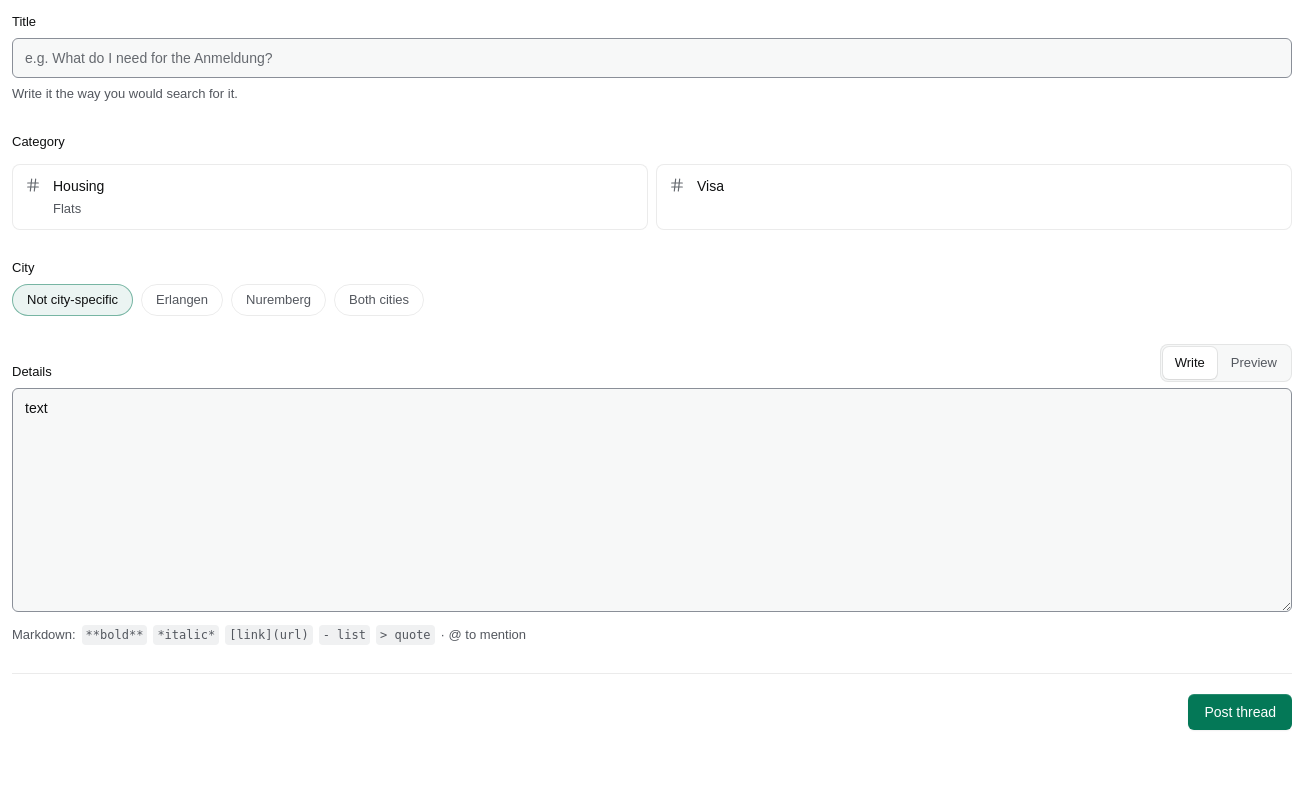
Test case: ThreadForm errors › returns to the write view when a body error comes back from preview
Click the button "Preview" at (1254, 363), box top-left (1219, 347), bottom-right (1289, 379)
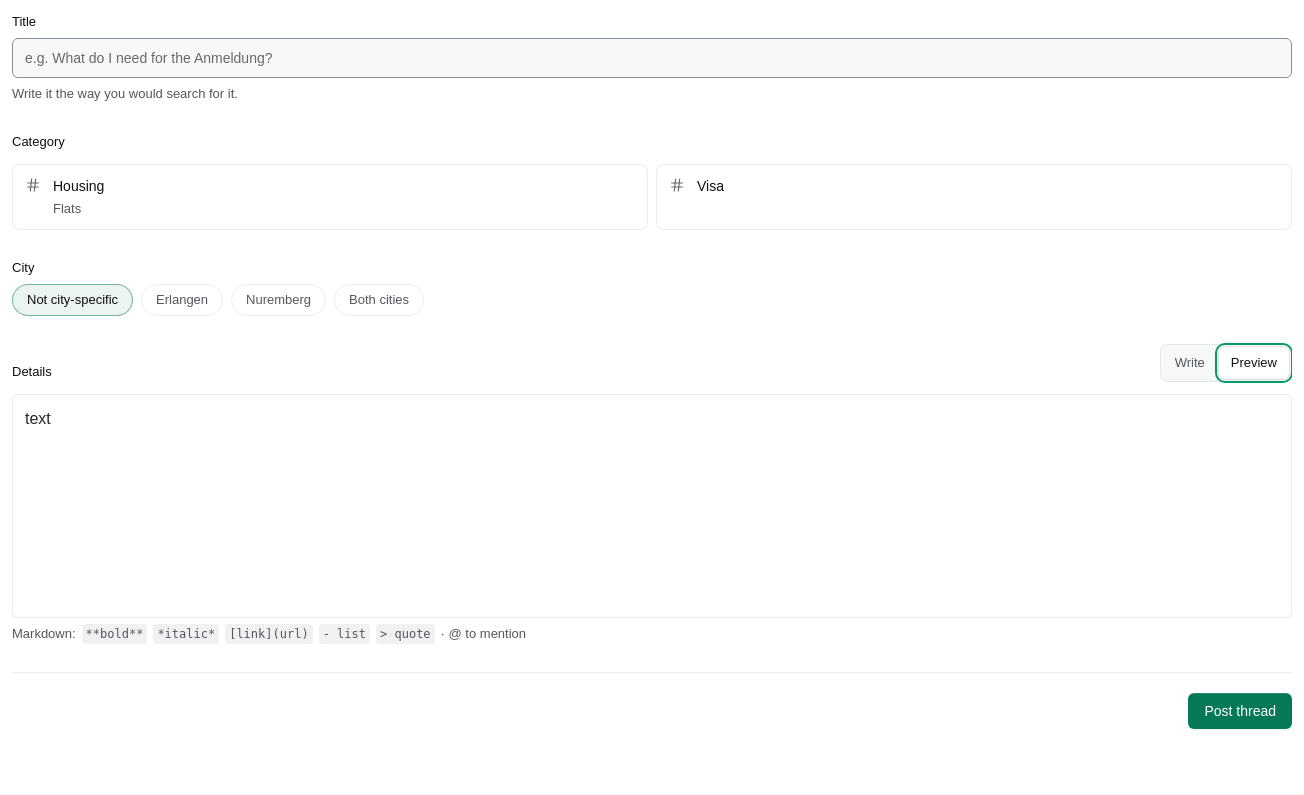
Click the button "Post thread" at (1240, 711), box top-left (1188, 693), bottom-right (1292, 729)
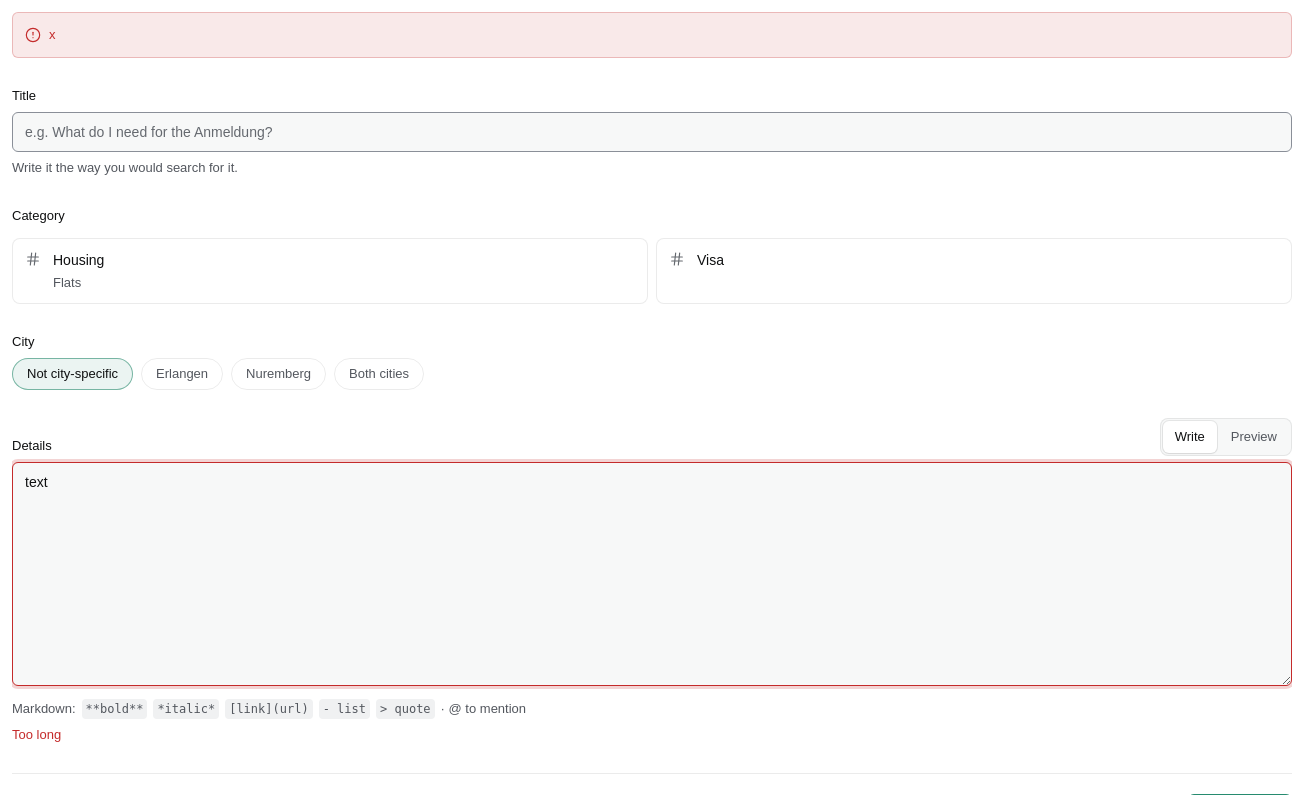
Check: the text "Too long" is shown, box top-left (12, 727), bottom-right (61, 742)
Check: the dropdown labelled "Details" is shown, box top-left (12, 462), bottom-right (1292, 686)
